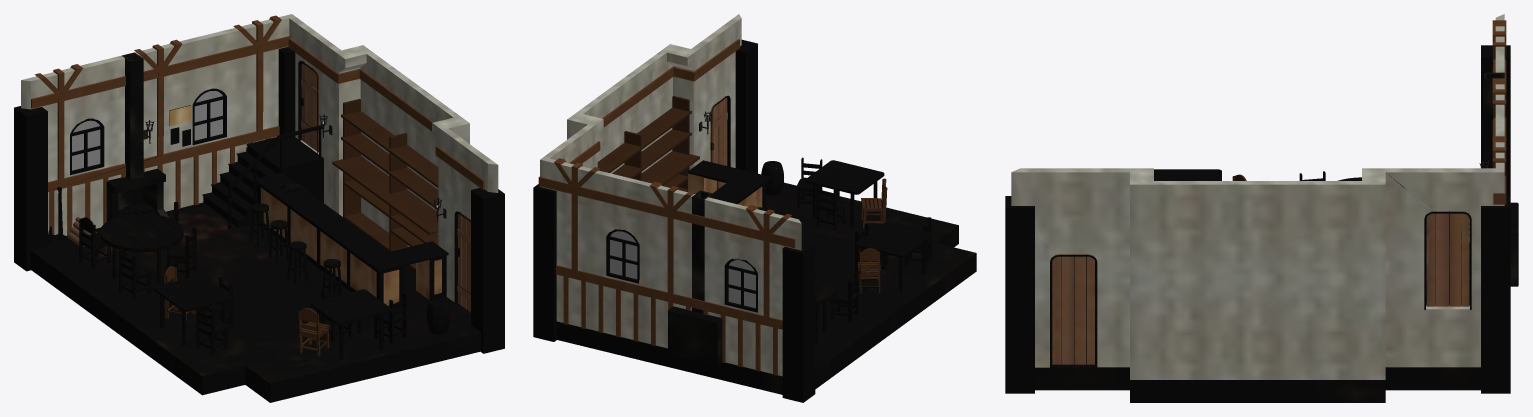
3 views of the same model, side by side, from view 1: azimuth 30°, elevation 25°; view 2: azimuth 150°, elevation 25°; view 3: azimuth 270°, elevation 25° (orthographic). The views are drawn at different scales.
Parts seen in each view (by area): view 1: Piso_Surface - Matte_0.001; view 2: Piso_Surface - Matte_0.001; view 3: Piso_Surface - Matte_0.001.
Boxes of the visible parts, x1=… form: Piso_Surface - Matte_0.001: x1=14, y1=14, x2=504, y2=402; Piso_Surface - Matte_0.001: x1=533, y1=14, x2=976, y2=402; Piso_Surface - Matte_0.001: x1=1005, y1=14, x2=1518, y2=402.
Bounding box in the file's own units: 6.55 × 3.89 × 8.2.
Materials: 1 (1 with a texture image).
